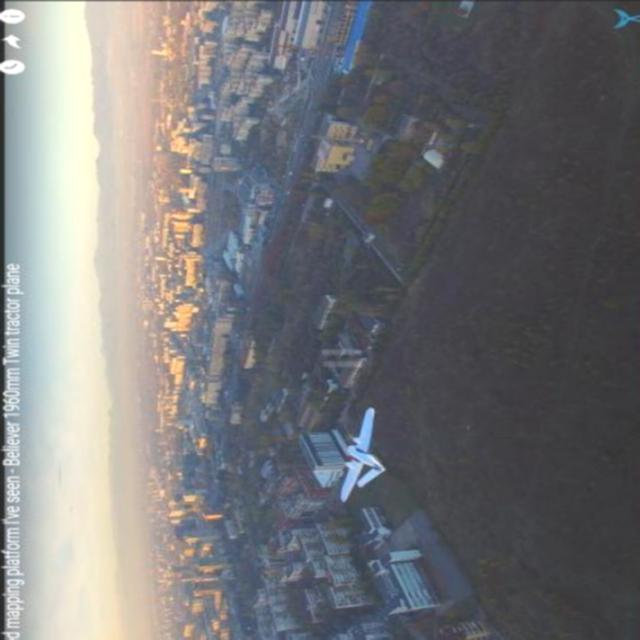plane: (336, 404, 386, 502)
